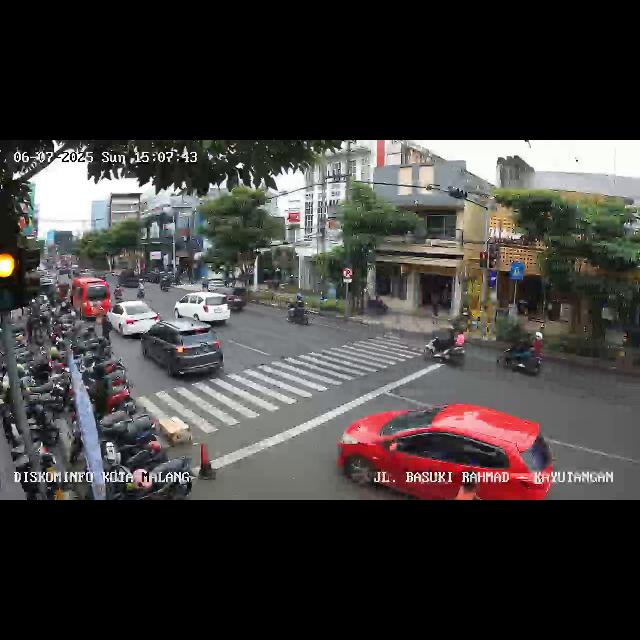car: (338, 402, 554, 500), (142, 321, 226, 381), (106, 300, 160, 340), (70, 276, 110, 320), (206, 284, 248, 312), (201, 274, 229, 292)
motorcycle: (498, 327, 544, 381), (422, 322, 468, 368), (286, 294, 312, 328), (114, 282, 122, 306), (136, 282, 146, 300)
person: (97, 306, 113, 352)
